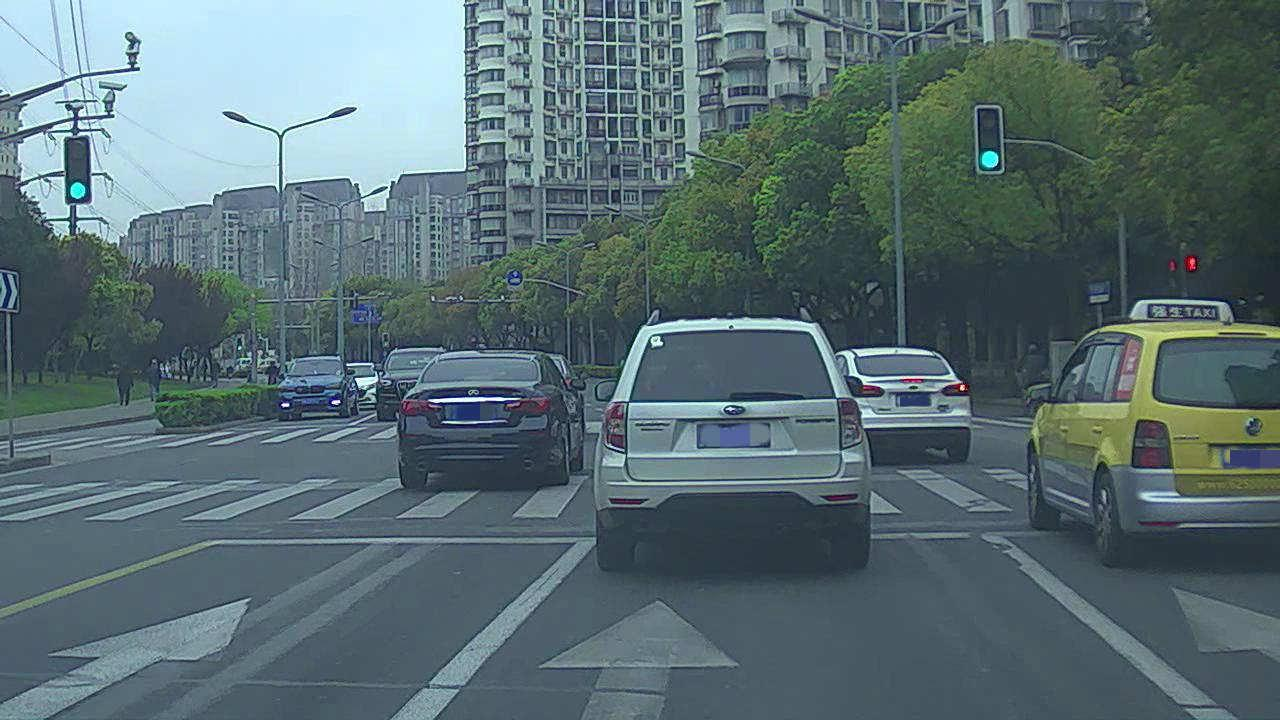traffic_light: (976, 105, 1005, 176), (69, 137, 95, 209)
